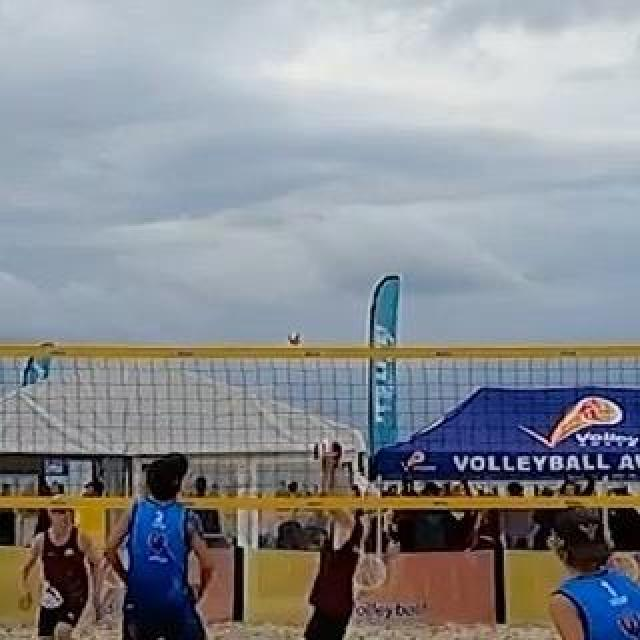volleyball: (287, 334, 301, 348)
